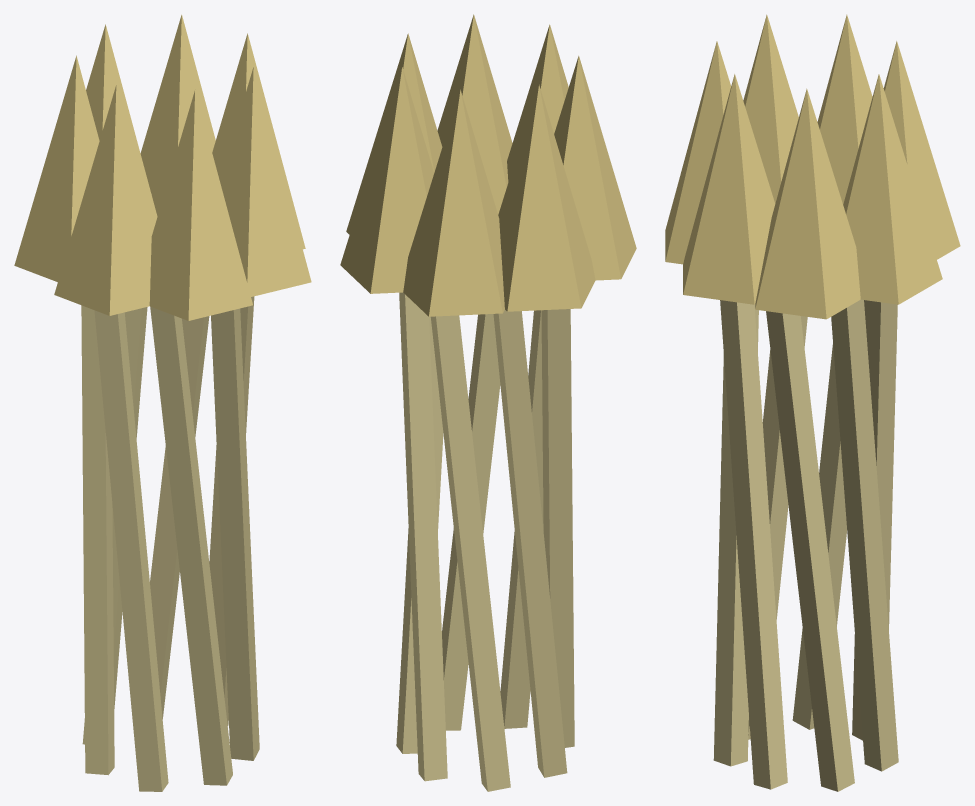
Rendered from wheat.glb.
3 views of the same model, side by side, from view 1: azimuth 30°, elevation 25°; view 2: azimuth 150°, elevation 25°; view 3: azimuth 270°, elevation 25° (orthographic).
Parts seen in each view (by area): view 1: wheat; view 2: wheat; view 3: wheat.
Part boxes in pixels (x1,y1,x2,y2): wheat: [14, 14, 311, 791]; wheat: [340, 14, 636, 791]; wheat: [665, 14, 960, 791].
Size of the model in its own units: 0.2092 by 0.5501 by 0.2081.
